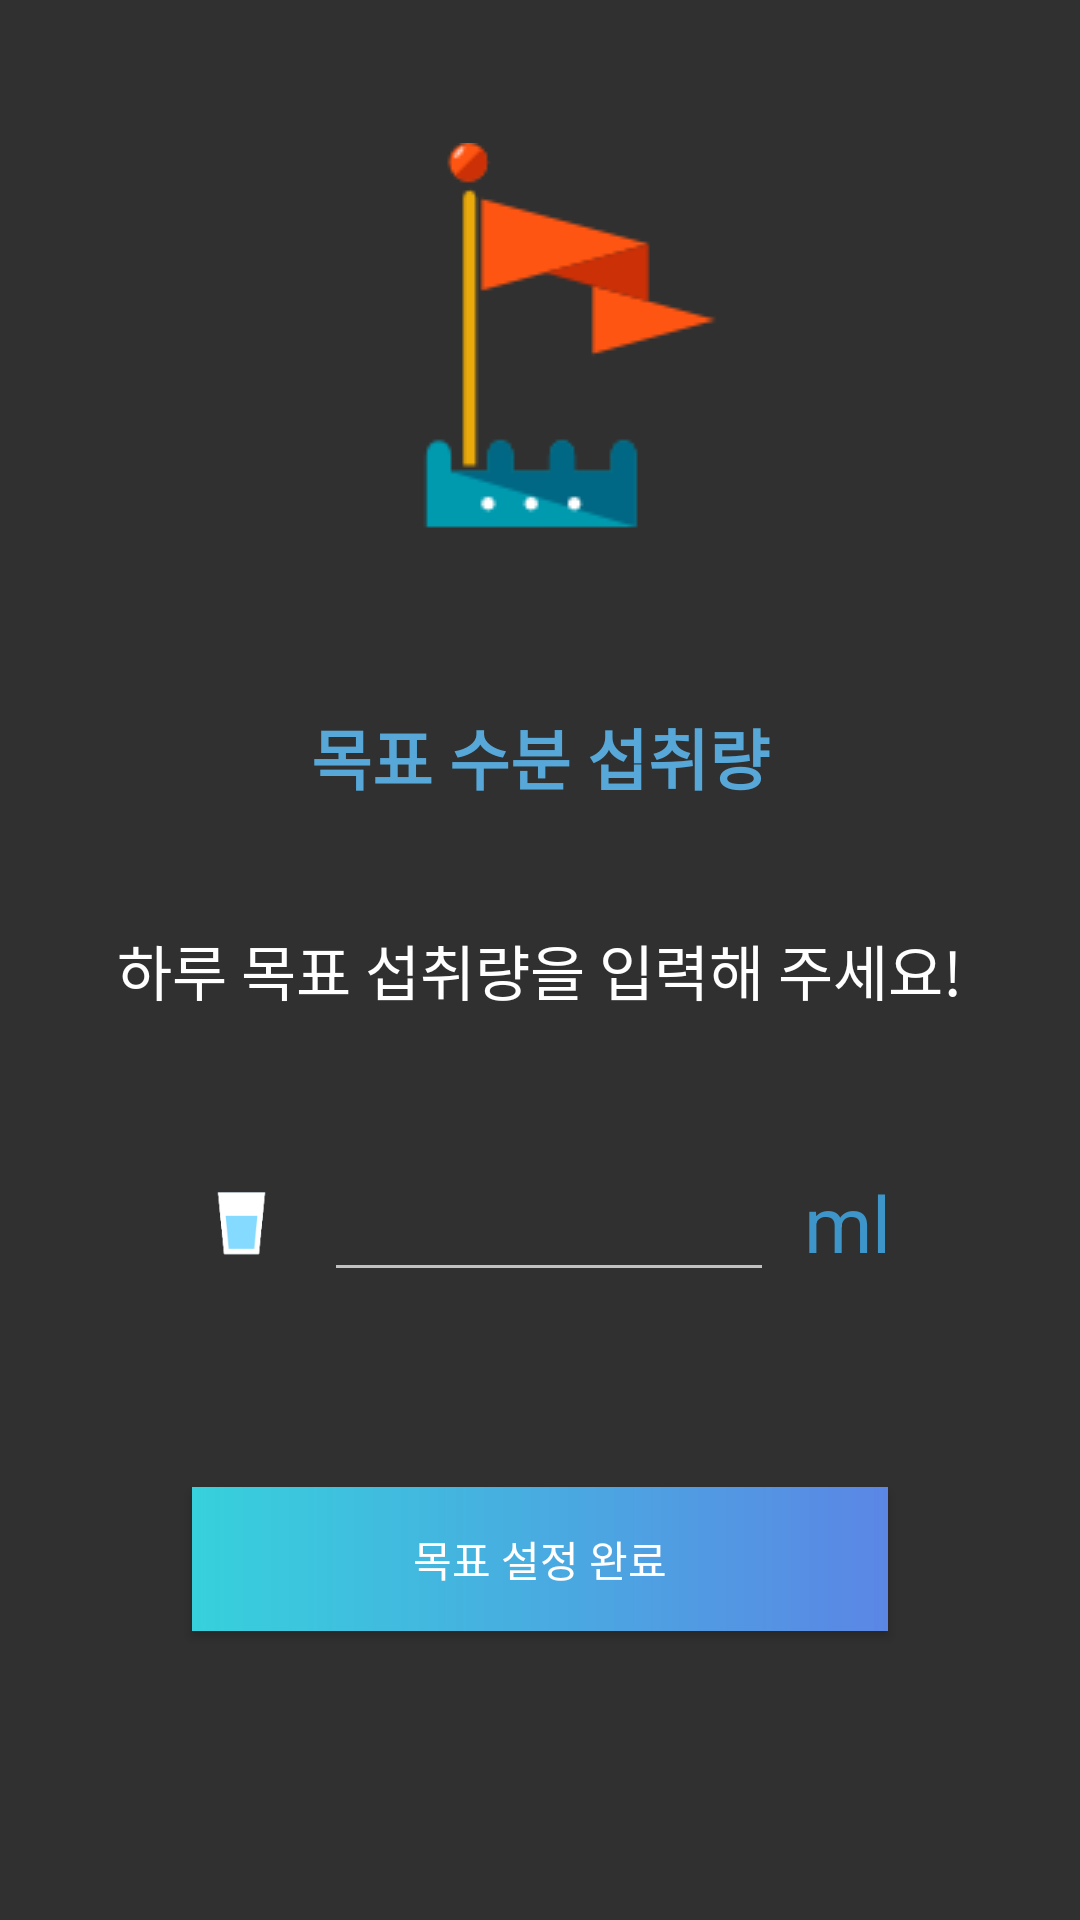

Icon click points for this 1080px×1920px phone screenshot, format [x,y]:
glass: [241,1223]
